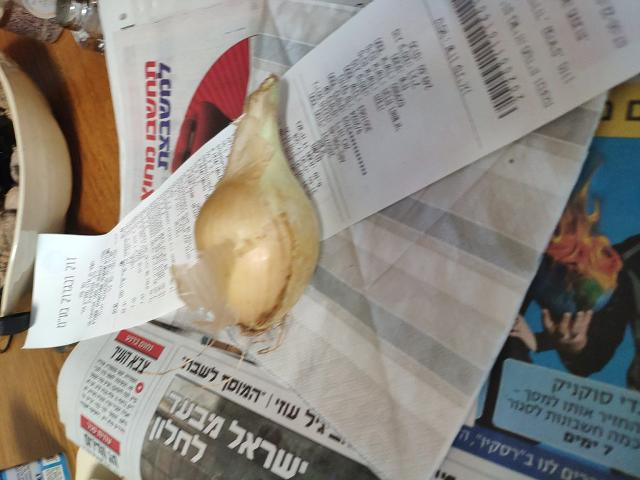onion: (191, 102, 319, 335)
